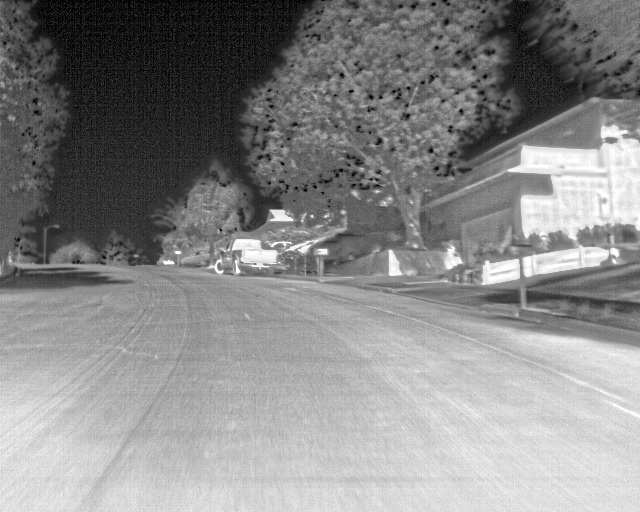vehicle: (214, 236, 279, 274)
